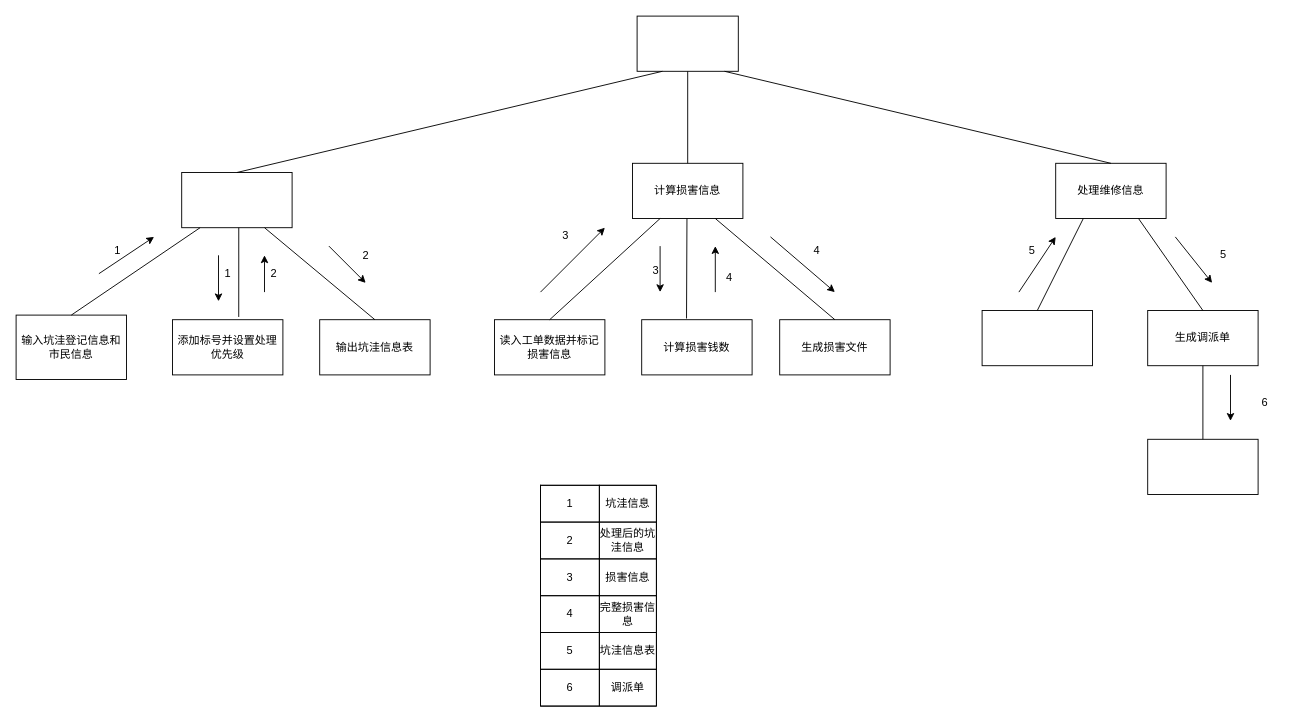
This 1290x722 diagram has some shape labels left out. Each missing label, with the box of its shape:
坑洼跟踪和修复系统: (636, 15, 738, 71)
处理坑洼坑洼信息: (181, 172, 292, 228)
计算开销: (1147, 438, 1258, 494)
读入坑洼信息表: (981, 310, 1092, 366)
